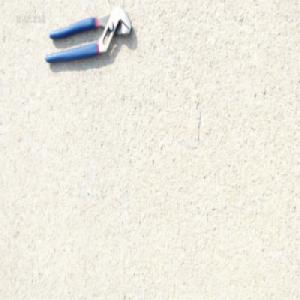Pliers: (44, 4, 132, 64)
